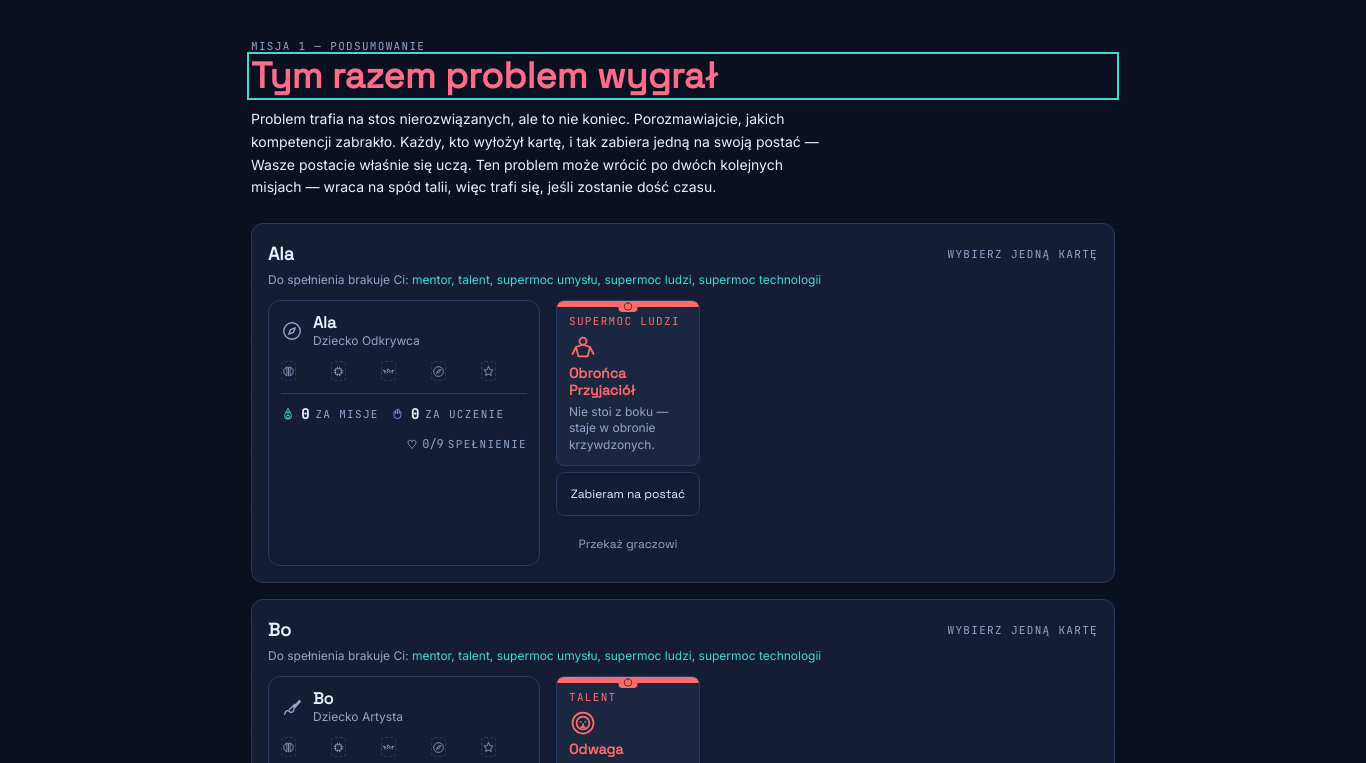
Scenario: przekazanie karty graczowi, który już wziął swoją (ekran podsumowania) › ale gracz, który już DOSTAŁ prezent w tej misji, znika z listy odbiorców
Click the button "Przekaż graczowi".
click(628, 544)  # box [556,522,700,566]
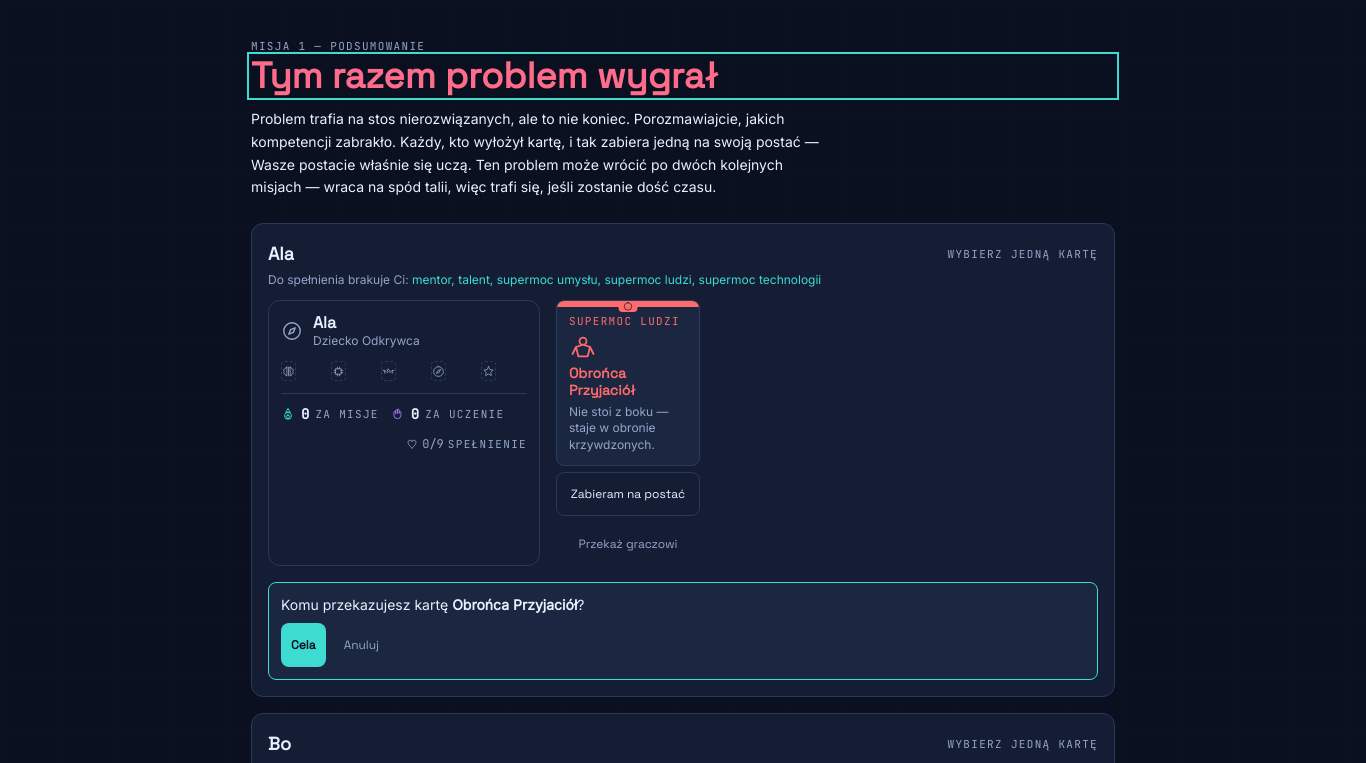
Expected: the text "Komu przekazujesz kartę Obrońca Przyjaciół?" is shown, [281,596,584,613]
Expected: the button "Cela" is shown, [281,623,326,667]
